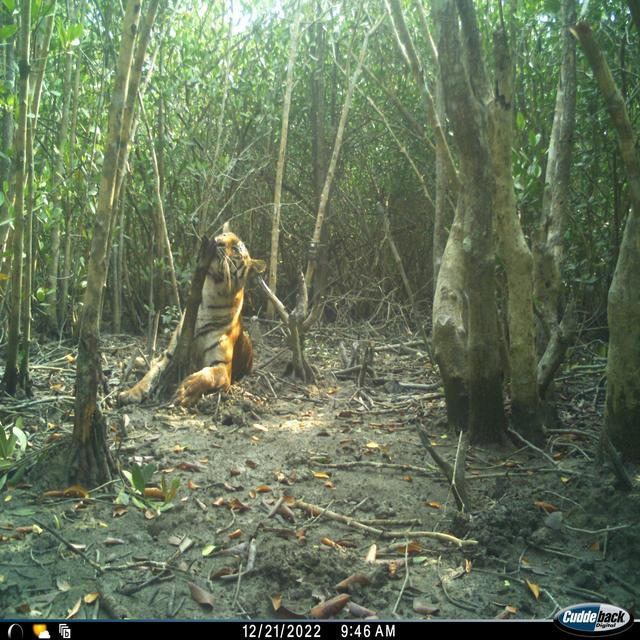tiger: (117, 230, 266, 409)
